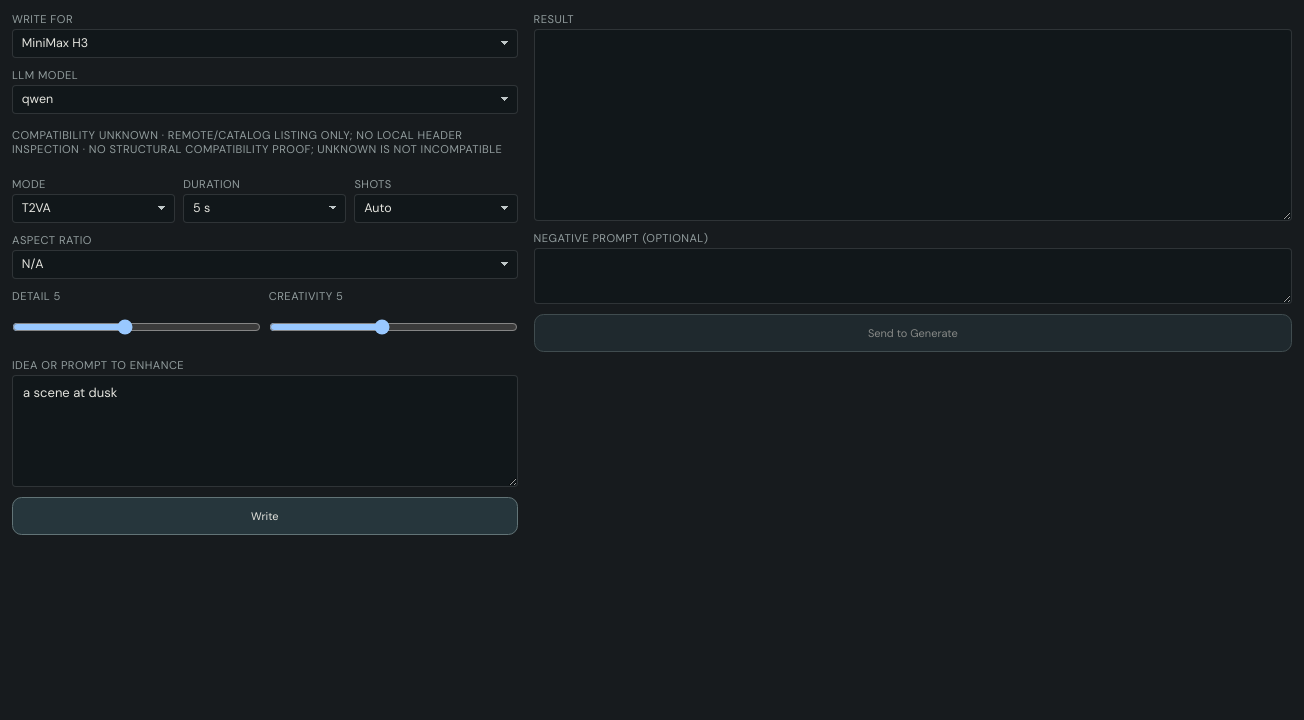
Test: H3 N/A keeps the old payload and two-argument prompt-only Send without Studio geometry
This screenshot has width=1304, height=720.
Later steps or results of the test are not shown.
Expected: the dropdown labelled "LLM model" shows "qwen", [12,85,518,114]
Click the button "Write" at (265, 516), box [12,497,518,535]
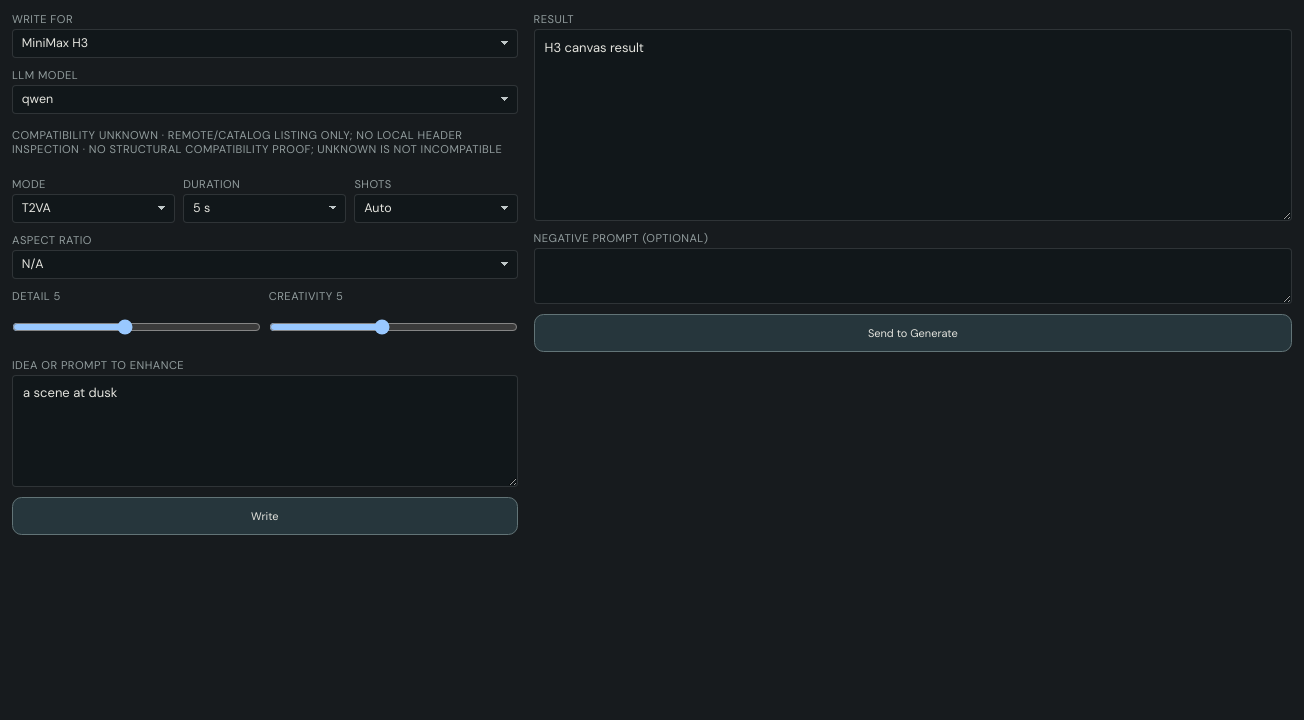
Now the text box labelled "Result" holds "H3 canvas result", box [534,29,1292,221]
